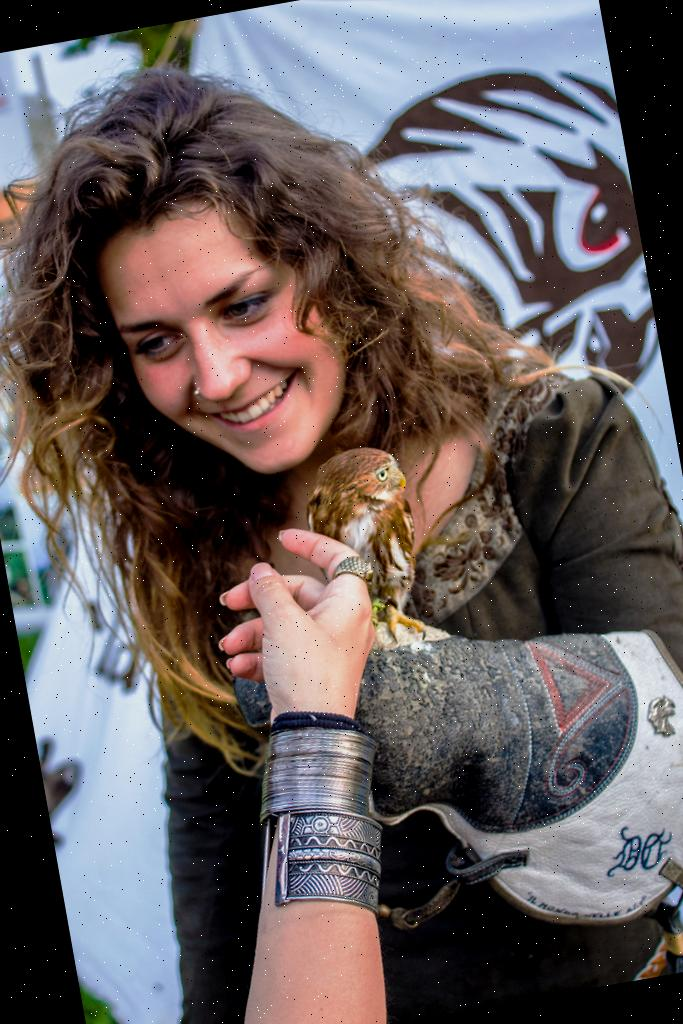Owl: (293, 441, 435, 660)
